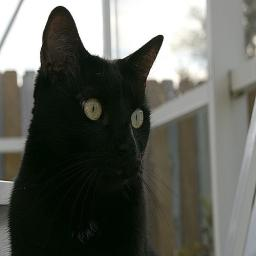catnose: (117, 140, 138, 166)
